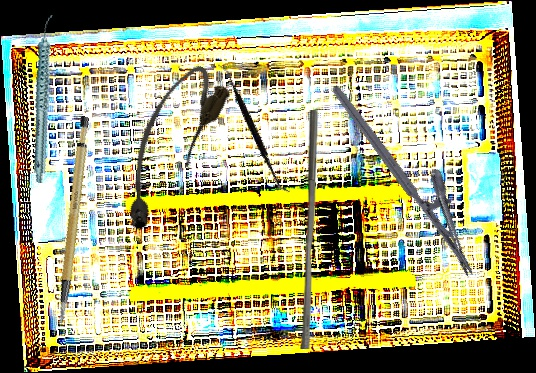Cannula: (99, 56, 236, 238)
Handpiece: (1, 13, 88, 184)
Needle Holder: (330, 65, 501, 279)
Pusher: (300, 110, 318, 349)
Scalpel Handle: (24, 114, 118, 325)
Spatula Surgical: (179, 61, 329, 195)
